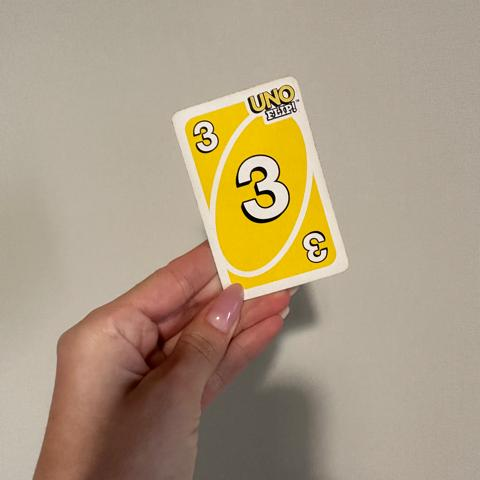7_red: (234, 155, 290, 223), (301, 230, 328, 265), (189, 121, 218, 153)
